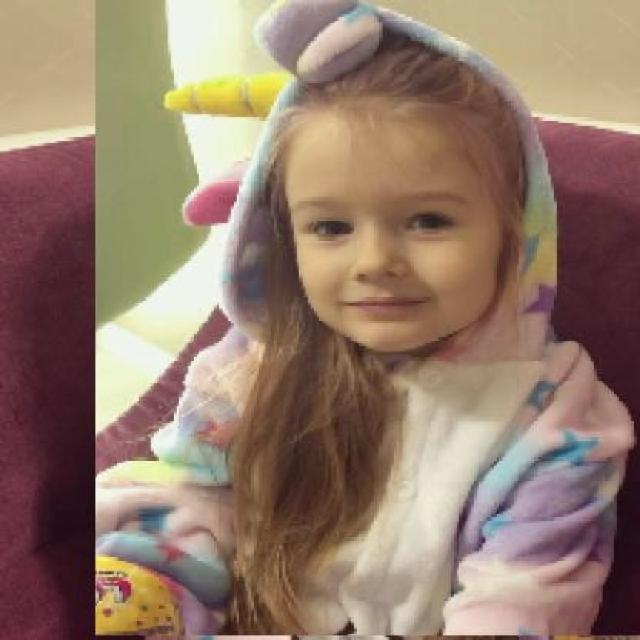child: (94, 0, 640, 637)
